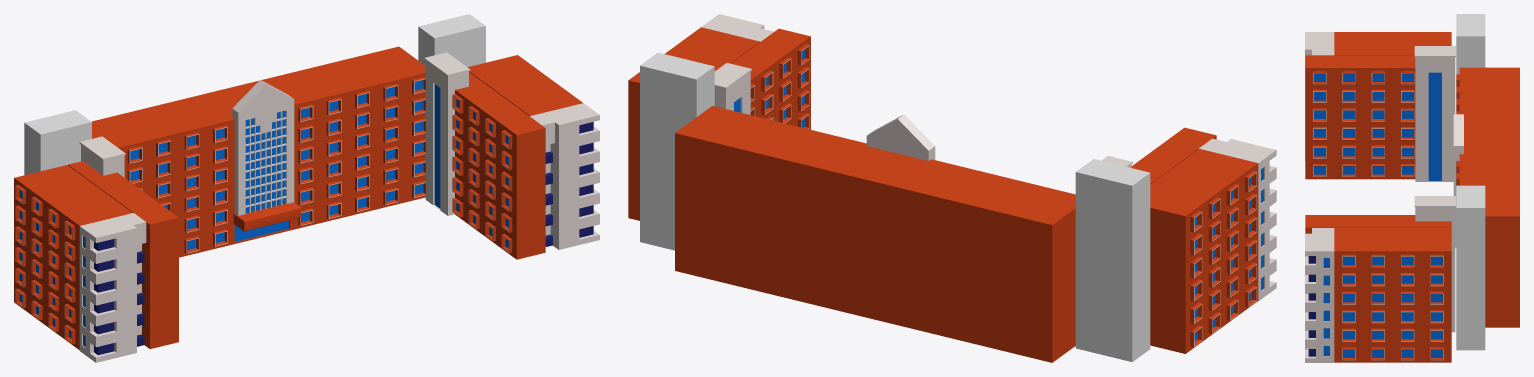
The model's file is 인재관.fbx.
3 views of the same model, side by side, from view 1: azimuth 30°, elevation 25°; view 2: azimuth 150°, elevation 25°; view 3: azimuth 270°, elevation 25° (orthographic). The views are drawn at different scales.
Parts seen in each view (by area): view 1: Cube_161, Cube_164_2, Cube_163, Cube, Cube_171, Cube_157, Cube_169, Cube_162, Cube_160, Cube_170, Cube_163_2, Cube_1; view 2: Cube_161, Cube_171, Cube, Cube_164_2, Cube_163, Cube_157, Cube_169, Cube_1; view 3: Cube, Cube_164_2, Cube_161, Cube_171, Cube_169, Cube_163, Cube_163_2, Cube_1, Cube_170, Cube_157, Cube_2.
Boxes of the visible parts, box(x1,y1,x2,y2) form: Cube_161: box(91, 46, 425, 257); Cube_164_2: box(68, 72, 545, 348); Cube_163: box(79, 103, 599, 362); Cube: box(14, 55, 582, 349); Cube_171: box(24, 14, 485, 175); Cube_157: box(232, 79, 294, 215); Cube_169: box(79, 52, 470, 215); Cube_162: box(130, 80, 423, 249); Cube_160: box(245, 110, 285, 212); Cube_170: box(434, 84, 440, 208); Cube_163_2: box(456, 99, 508, 248); Cube_1: box(19, 190, 71, 338); Cube_161: box(675, 106, 1075, 362); Cube_171: box(640, 52, 1150, 362); Cube: box(628, 27, 1258, 353); Cube_164_2: box(731, 28, 1216, 184); Cube_163: box(701, 14, 1276, 301); Cube_157: box(866, 114, 935, 160); Cube_169: box(714, 63, 1132, 167); Cube_1: box(1194, 176, 1251, 340); Cube: box(1334, 32, 1451, 362); Cube_164_2: box(1305, 55, 1451, 233); Cube_161: box(1456, 67, 1519, 327); Cube_171: box(1456, 14, 1485, 350); Cube_169: box(1414, 46, 1455, 332); Cube_163: box(1305, 32, 1334, 362); Cube_163_2: box(1314, 73, 1413, 174); Cube_1: box(1343, 257, 1442, 357); Cube_170: box(1428, 72, 1441, 181); Cube_157: box(1453, 114, 1463, 247); Cube_2: box(1323, 258, 1329, 355).
Bounding box in the file's own units: 1901 × 568 × 777.
